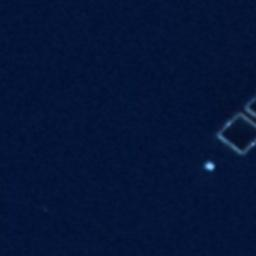square_solid: (214, 107, 256, 159)
